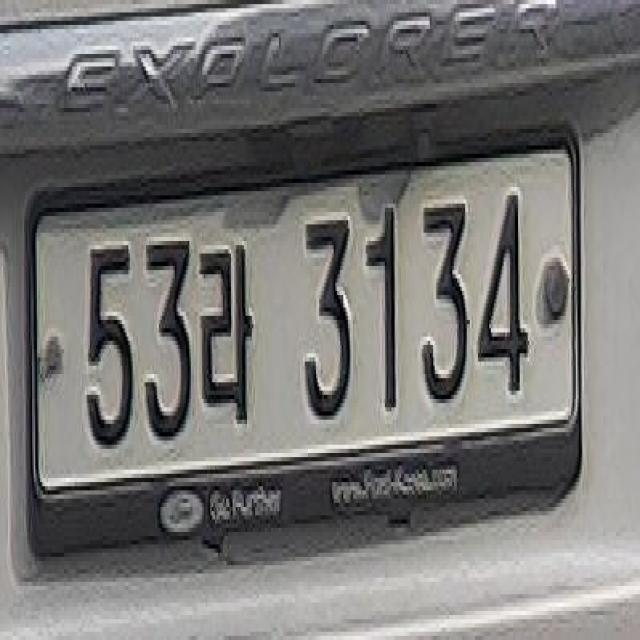1: (361, 196, 409, 440)
3: (133, 216, 197, 457), (297, 191, 361, 428), (419, 183, 476, 415)
4: (470, 170, 529, 420)
5: (76, 241, 140, 457)
la: (197, 237, 257, 428)
license_plate: (10, 137, 592, 586)
